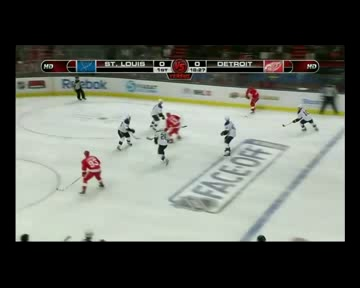normal: (144, 96, 197, 171)
